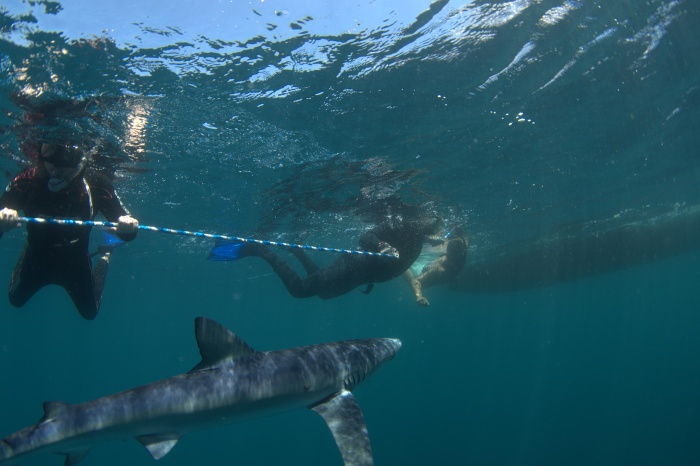Azul: (25, 299, 443, 466)
